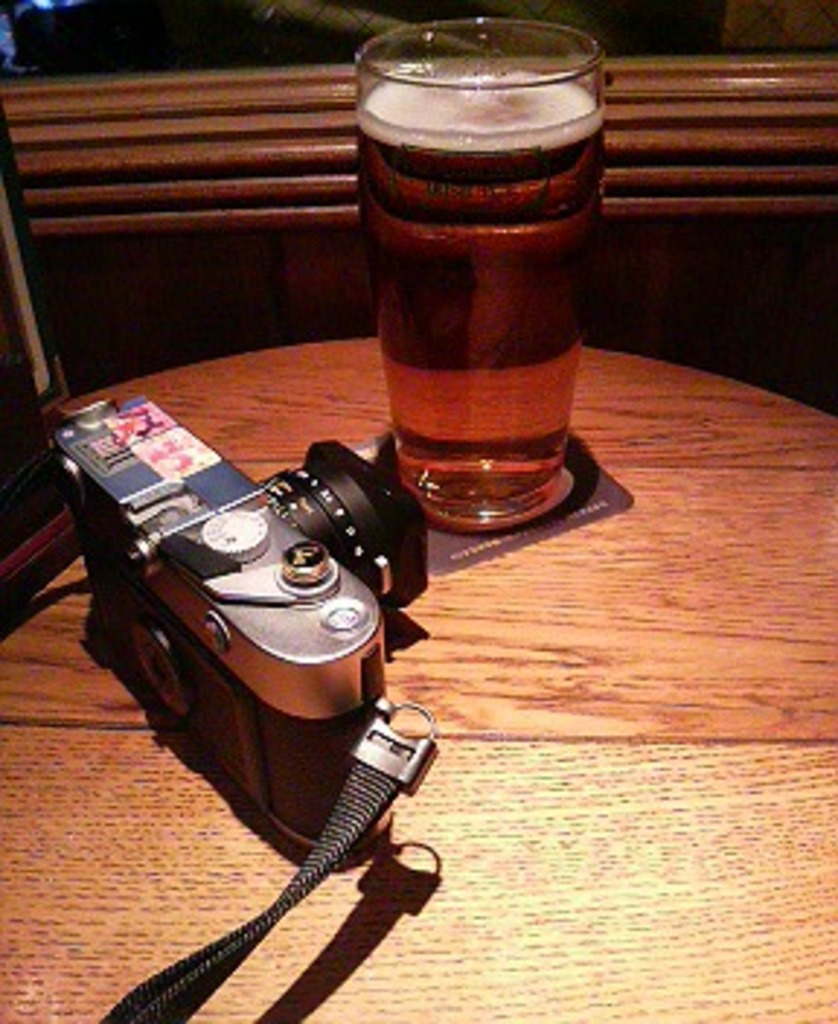Beer: (363, 55, 599, 512)
